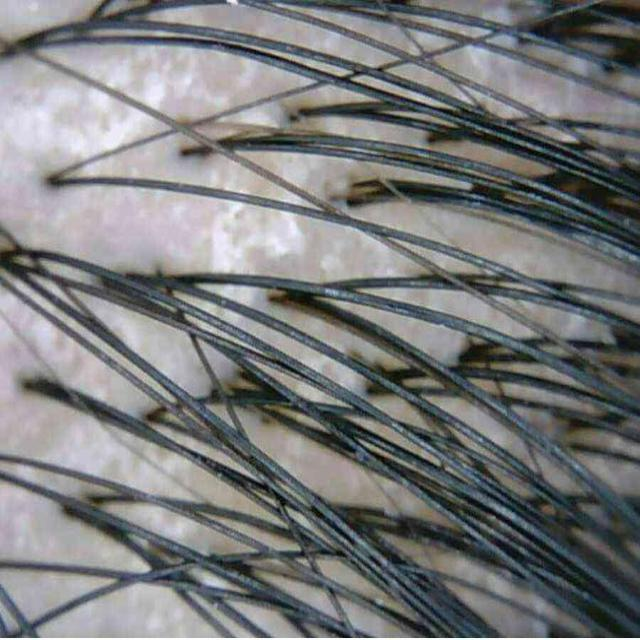d: (207, 202, 305, 273), (69, 87, 116, 162), (112, 47, 168, 108), (164, 47, 199, 101), (224, 54, 262, 93), (215, 284, 269, 311), (226, 102, 288, 125), (109, 107, 144, 144), (359, 235, 395, 270), (319, 235, 345, 280), (465, 47, 489, 63)
